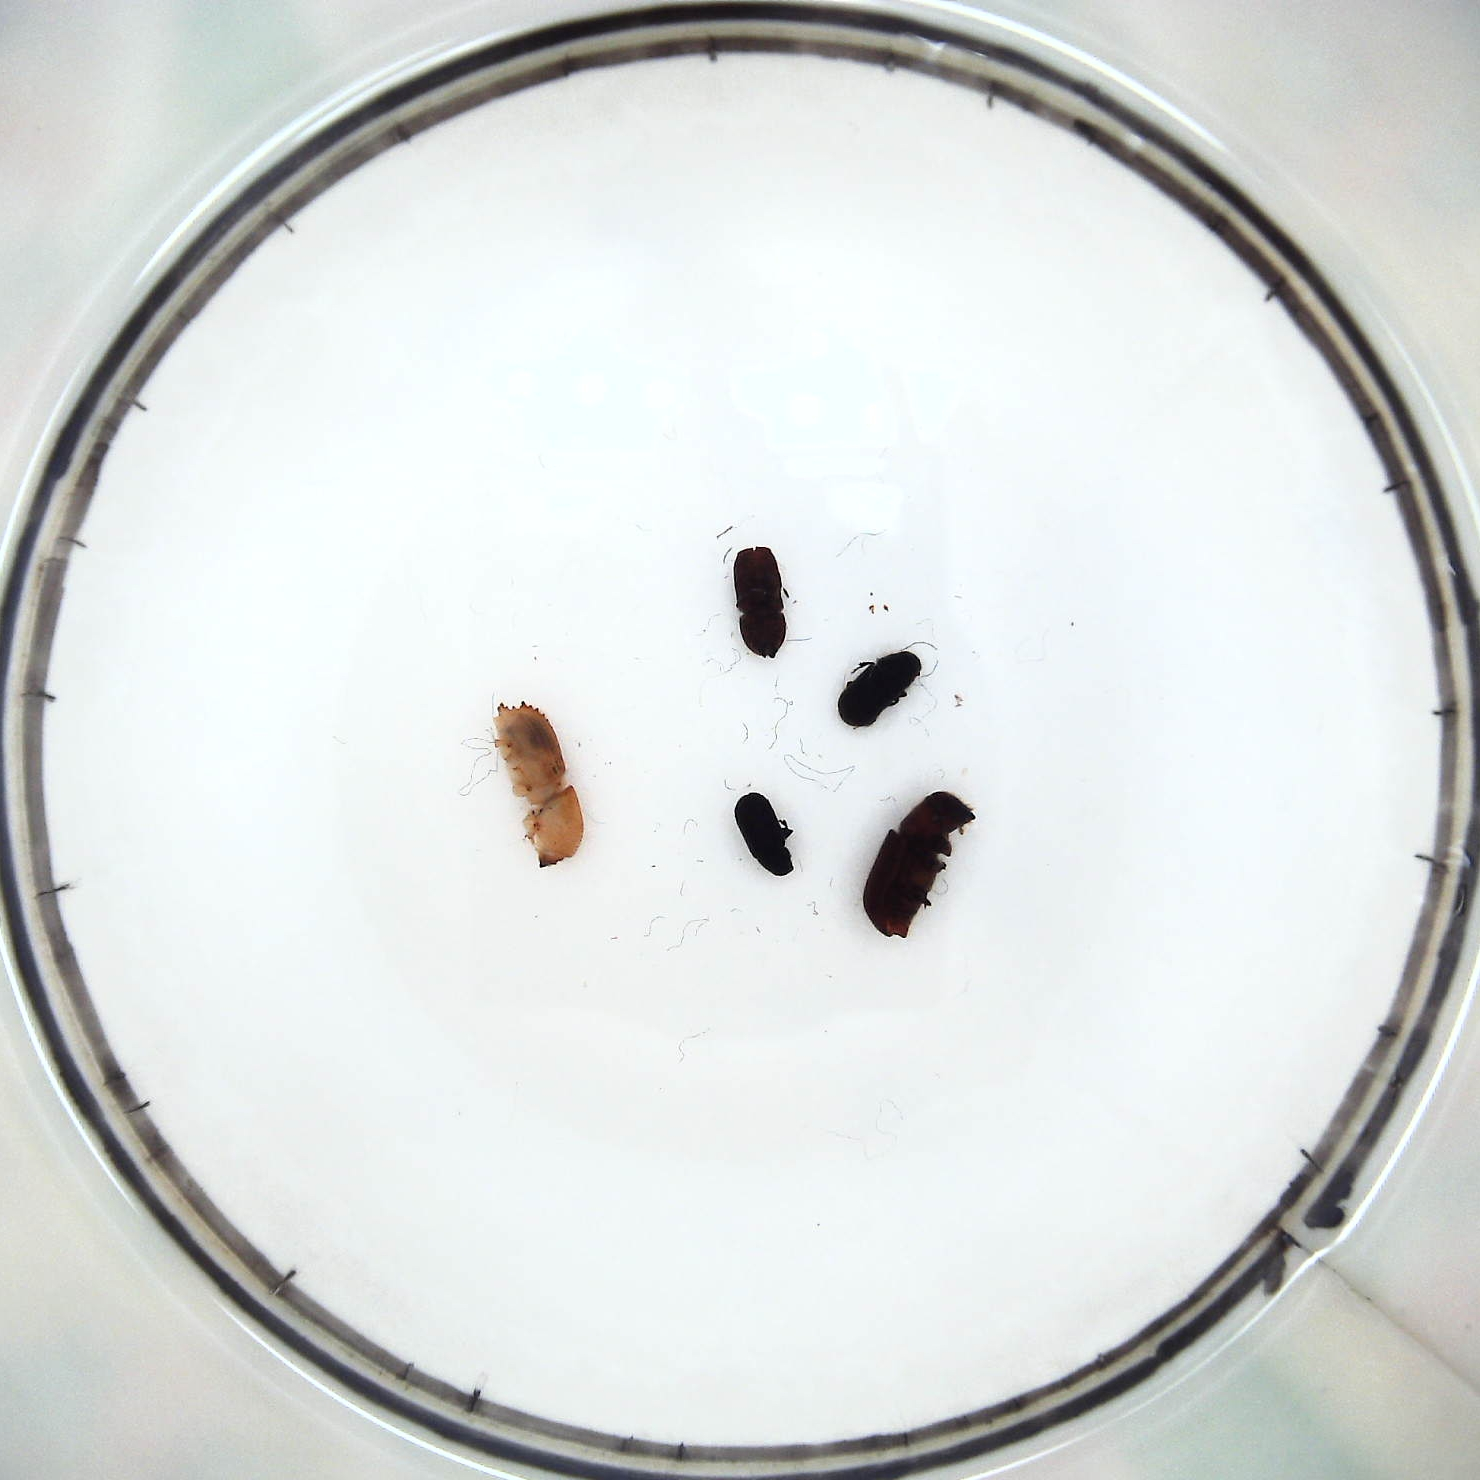Boerner: (489, 698, 588, 878)
Leconte: (862, 790, 980, 943)
Linnaeus: (729, 545, 792, 660)
armandi: (838, 649, 919, 731)
coleoptera: (731, 792, 796, 876)
